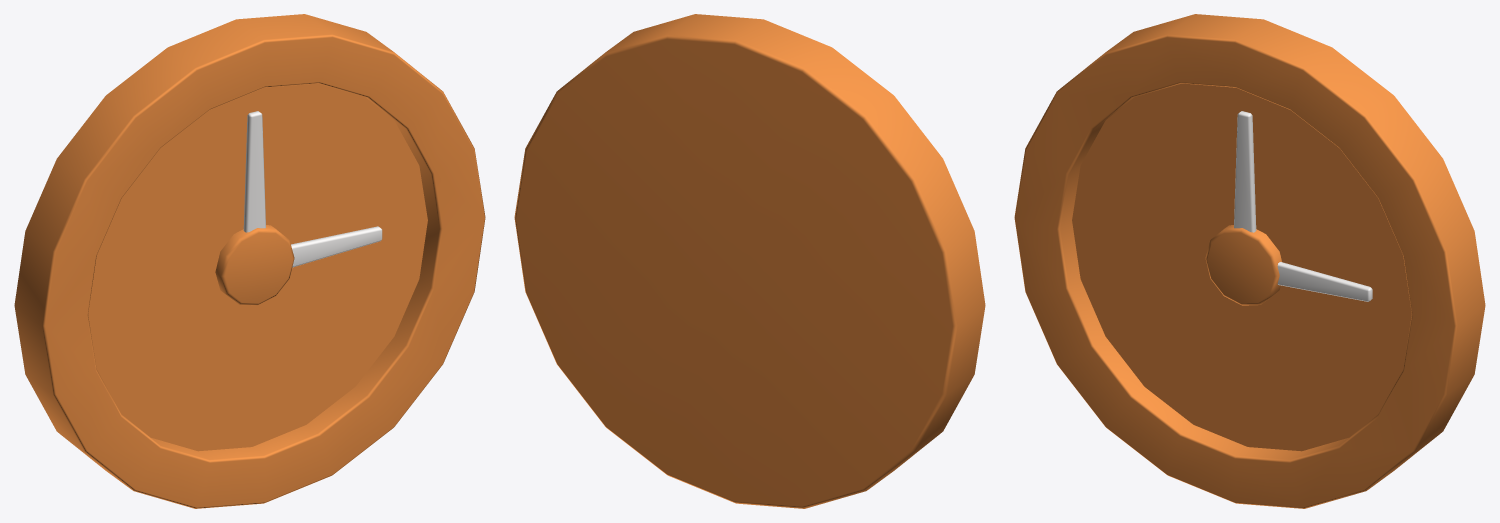
The model's file is clock1.glb.
3 views of the same model, side by side, from view 1: azimuth 30°, elevation 25°; view 2: azimuth 150°, elevation 25°; view 3: azimuth 330°, elevation 25° (orthographic).
Visible parts, largest first — view 1: SM_Clock_3; view 2: SM_Clock_3; view 3: SM_Clock_3.
Boxes of the visible parts, <box> form: SM_Clock_3: <box>14,14,485,508</box>; SM_Clock_3: <box>514,14,985,508</box>; SM_Clock_3: <box>1014,14,1485,508</box>.
Size of the model in its own units: 0.7799 by 0.7799 by 0.0935.
1 material, 1 textured.
